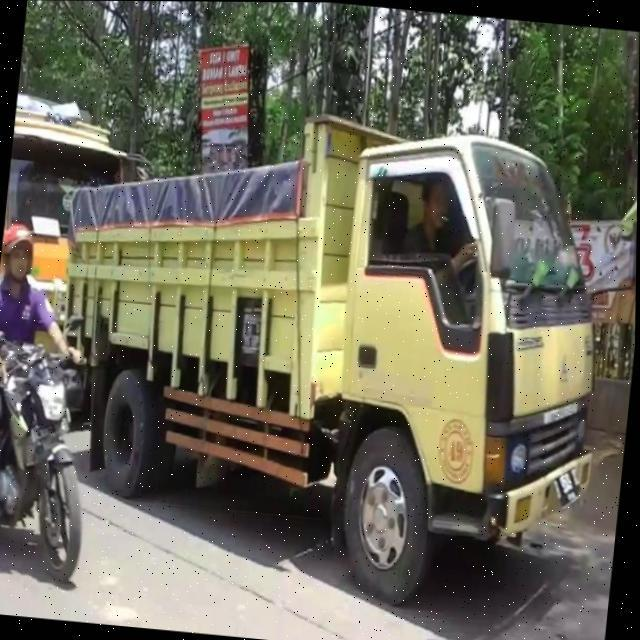truck: (25, 89, 622, 622)
